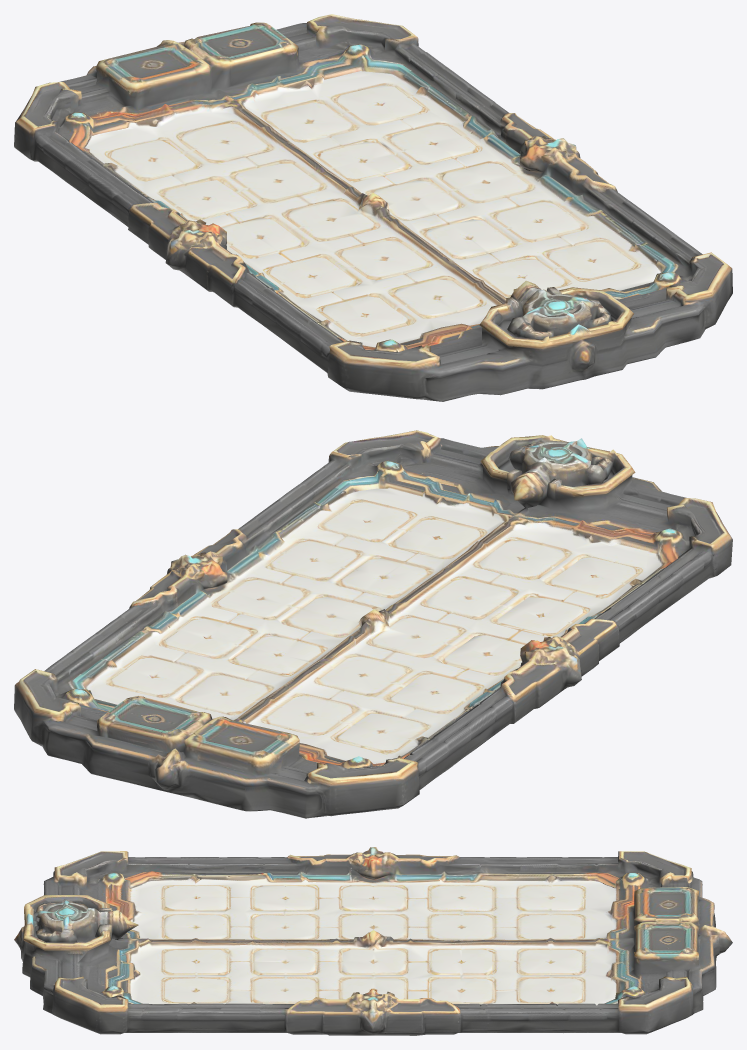
File: cloudgate_battle_board_v02_tripo_source.glb
The picture shows the model from 3 angles, top to bottom: view 1: azimuth 30°, elevation 25°; view 2: azimuth 150°, elevation 25°; view 3: azimuth 270°, elevation 25°; orthographic projection. The views are drawn at different scales.
Parts seen in each view (by area): view 1: tripo_node_36073ccf-05c7-4c0e-8afb-1e3db1f45c2c; view 2: tripo_node_36073ccf-05c7-4c0e-8afb-1e3db1f45c2c; view 3: tripo_node_36073ccf-05c7-4c0e-8afb-1e3db1f45c2c.
Part boxes in pixels (<box>): tripo_node_36073ccf-05c7-4c0e-8afb-1e3db1f45c2c: <box>14,14,732,401</box>; tripo_node_36073ccf-05c7-4c0e-8afb-1e3db1f45c2c: <box>14,430,732,818</box>; tripo_node_36073ccf-05c7-4c0e-8afb-1e3db1f45c2c: <box>14,847,732,1035</box>.
Size of the model in its own units: 0.5566 by 0.0871 by 1.
Materials: 1 (1 with a texture image).
